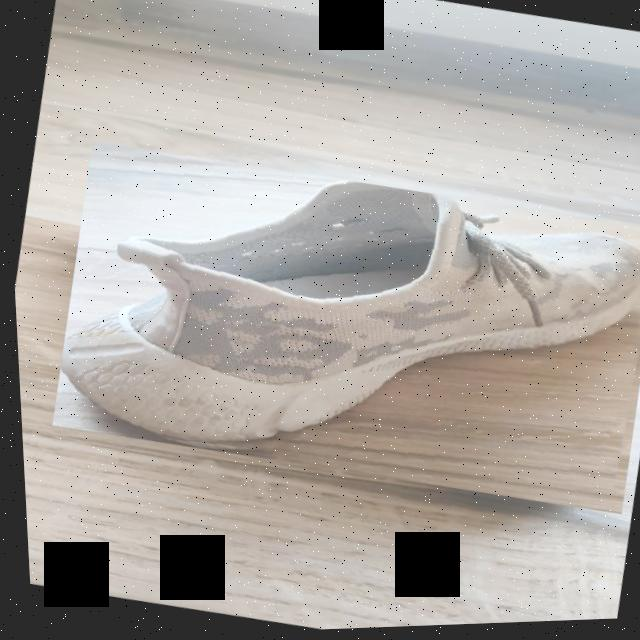shoe: (36, 124, 640, 535)
